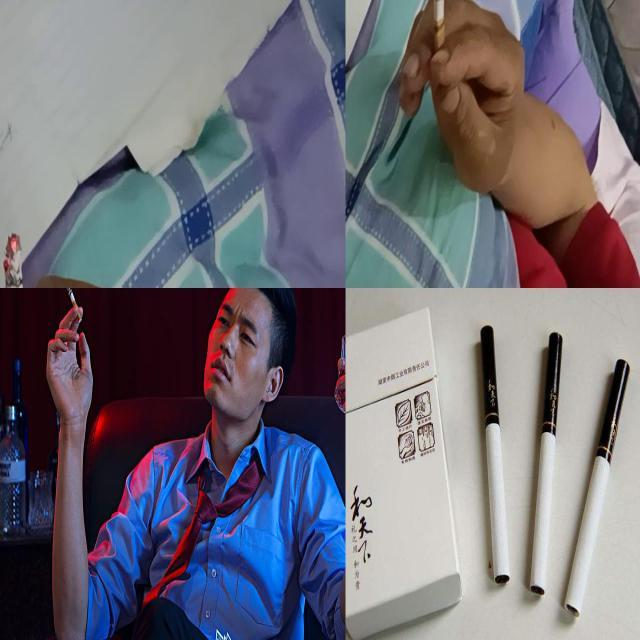smoking: (565, 358, 631, 618), (530, 332, 564, 596), (480, 326, 510, 585), (4, 231, 26, 287), (431, 0, 446, 69), (66, 288, 84, 324)
